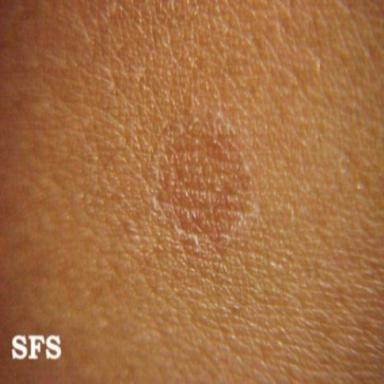Porokeratosis: (158, 115, 253, 237)
